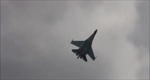maybay_muctieu: (71, 27, 98, 63)
